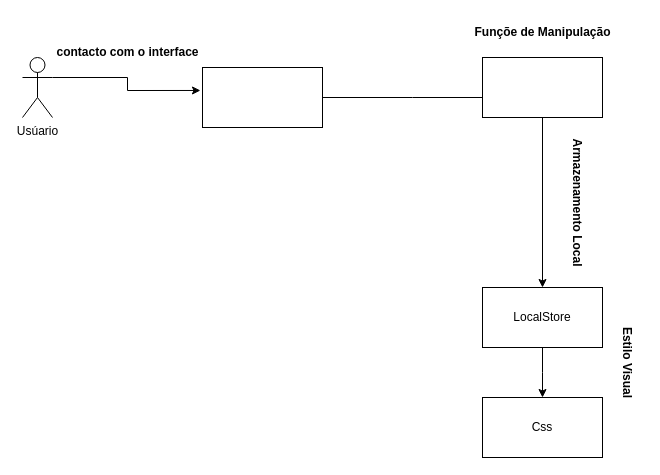
Image size: 660x475. Some labels were removed from this diagram. The box of each missing label's shape, as (x1, y1, x2, y2) in pixels:
HTML,CSS,JS: (202, 66, 322, 128)
Java script: (482, 56, 602, 118)
